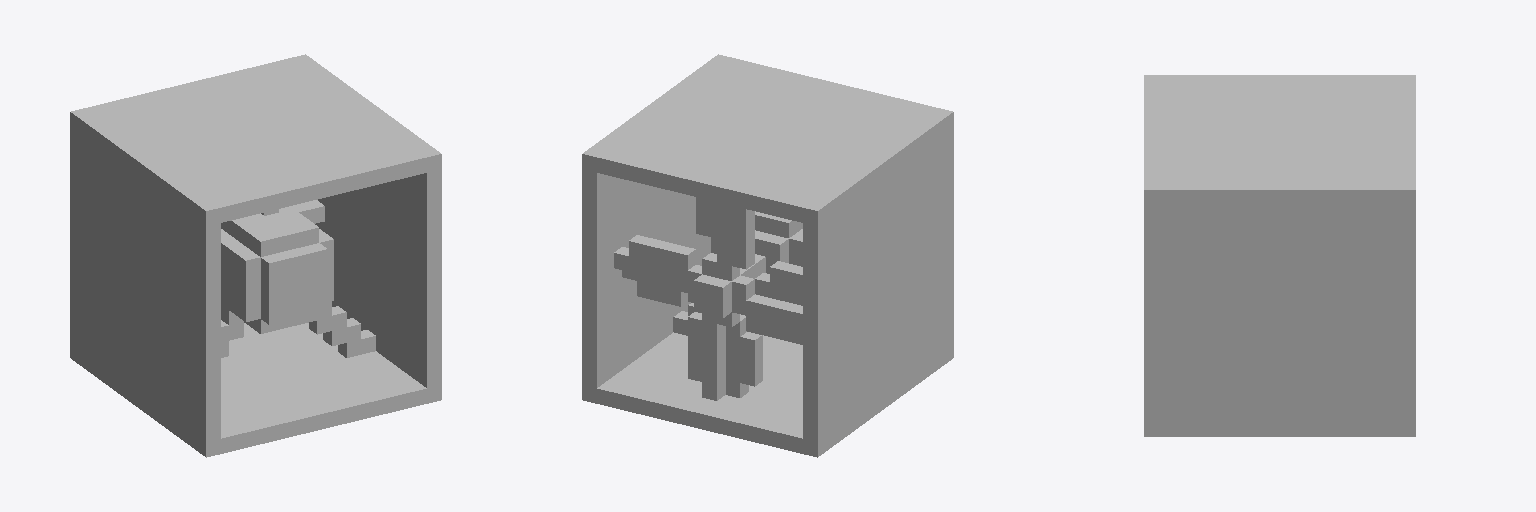
File: cleanroom_ventilator.obj
3 renders of one model, left to right at view 1: azimuth 30°, elevation 25°; view 2: azimuth 150°, elevation 25°; view 3: azimuth 270°, elevation 25°, orthographic.
Parts seen in each view (by area): view 1: node_0_0_0.001; view 2: node_0_0_0.001, node_0_1_0; view 3: node_0_0_0.001.
Boxes of the visible parts, x1=… form: node_0_0_0.001: x1=70, y1=54, x2=441, y2=457; node_0_0_0.001: x1=582, y1=54, x2=953, y2=457; node_0_1_0: x1=614, y1=197, x2=802, y2=400; node_0_0_0.001: x1=1144, y1=75, x2=1415, y2=436.
Bounding box in the file's own units: 1 × 1 × 1.